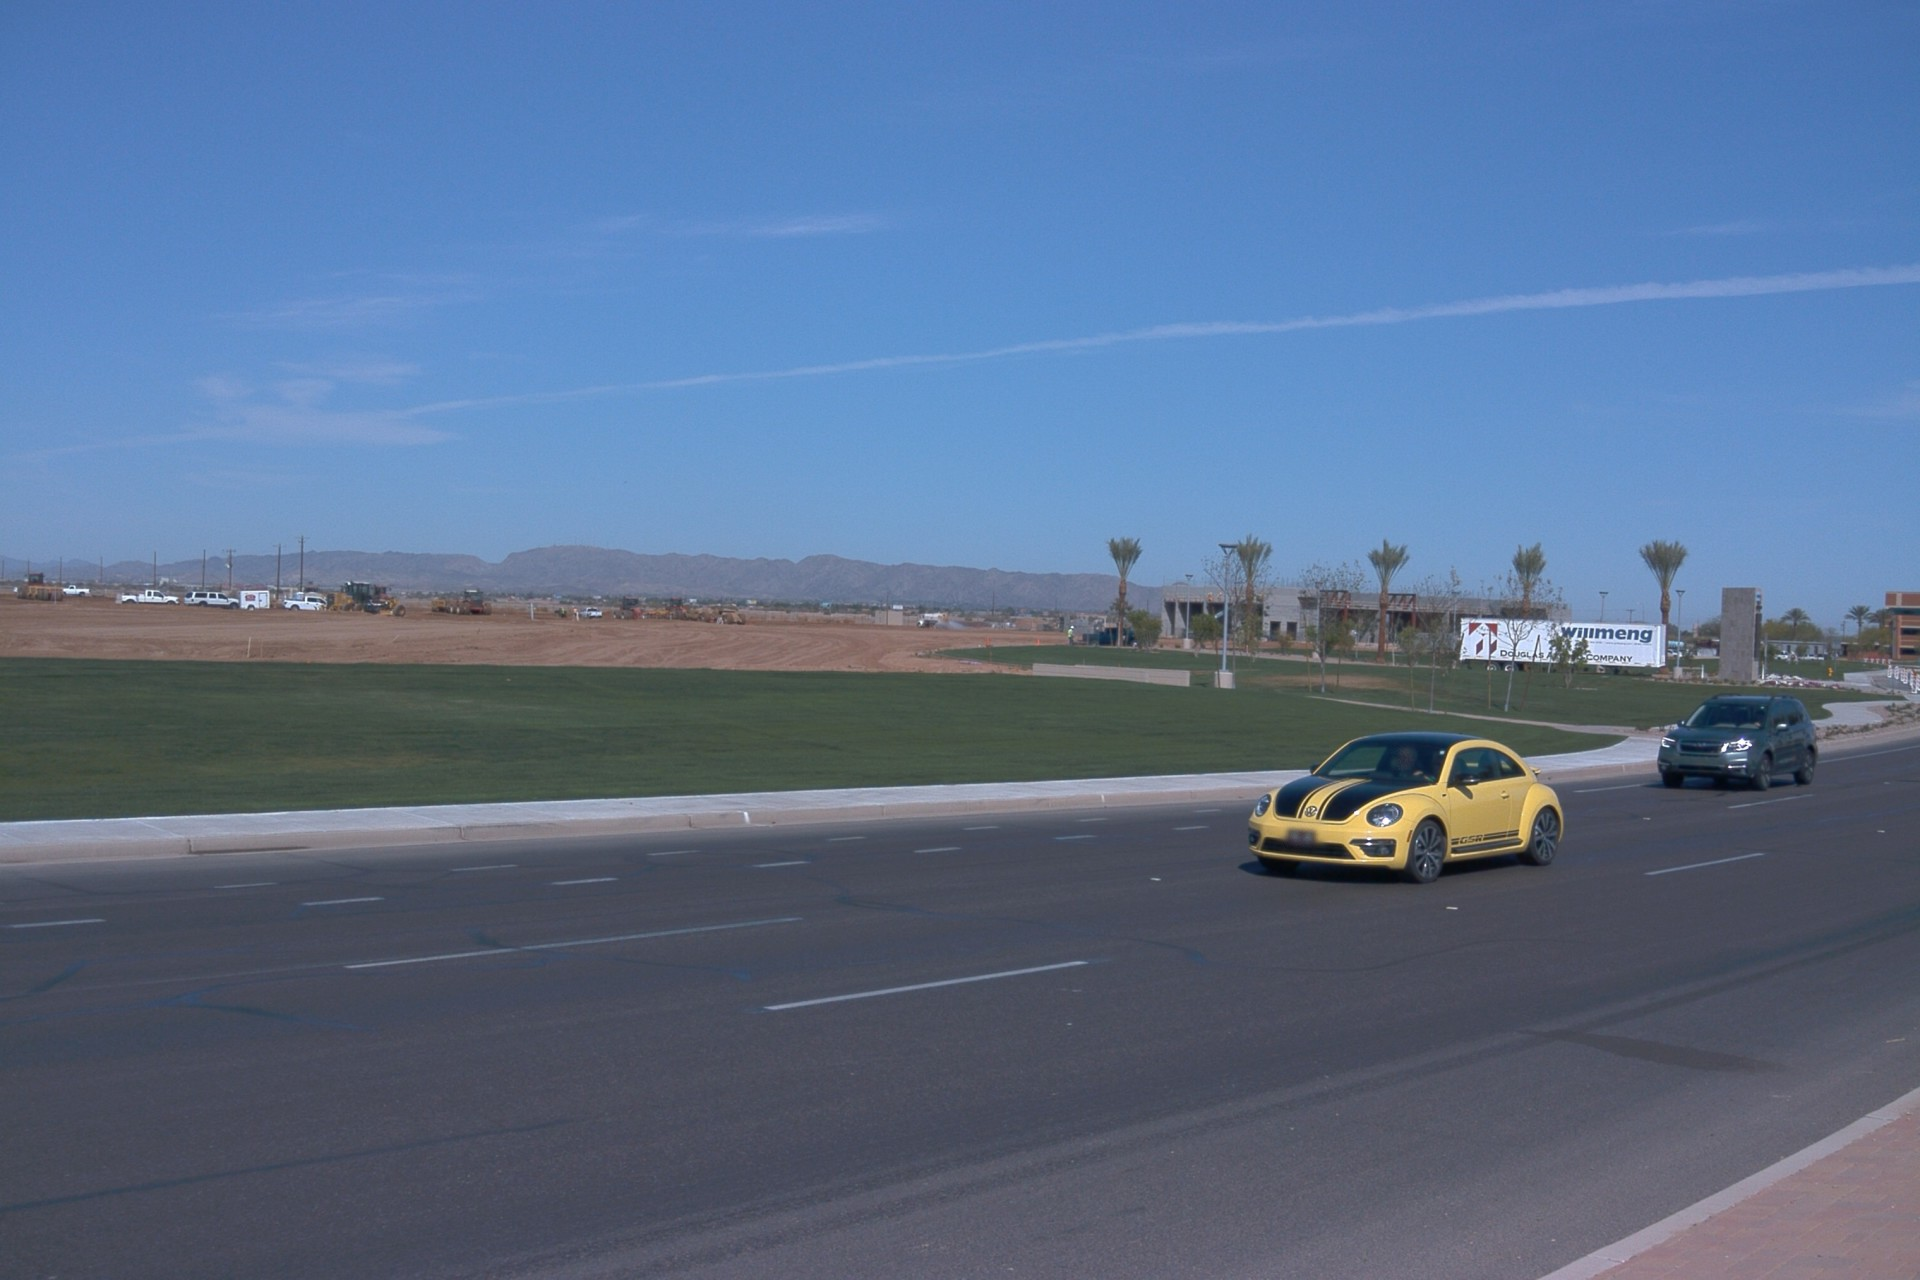TYPE_PEDESTRIAN: (1067, 626, 1075, 648), (558, 607, 565, 620), (572, 606, 577, 619)
TYPE_VEHICLE: (1246, 732, 1567, 888), (1655, 692, 1820, 795), (1459, 614, 1672, 677), (311, 577, 404, 621), (429, 588, 490, 612), (1081, 627, 1139, 651), (1214, 592, 1267, 616), (183, 589, 243, 609), (119, 587, 180, 603), (911, 614, 954, 634), (281, 592, 332, 608), (239, 589, 275, 609), (59, 582, 91, 596), (373, 581, 394, 599), (580, 609, 607, 621), (304, 585, 327, 595), (14, 580, 19, 594)
